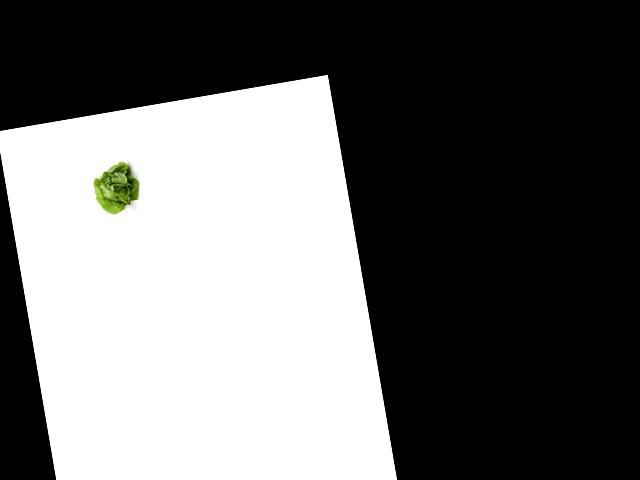lettuce: (86, 157, 146, 218)
